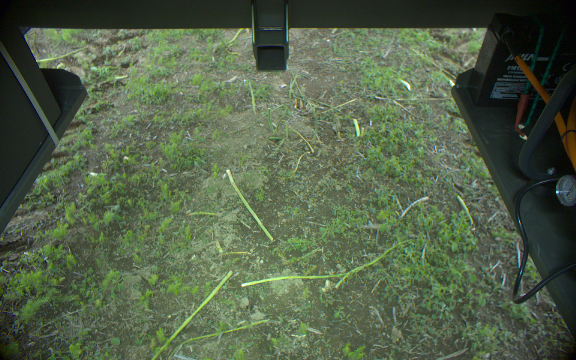aspa: (244, 78, 258, 117)
